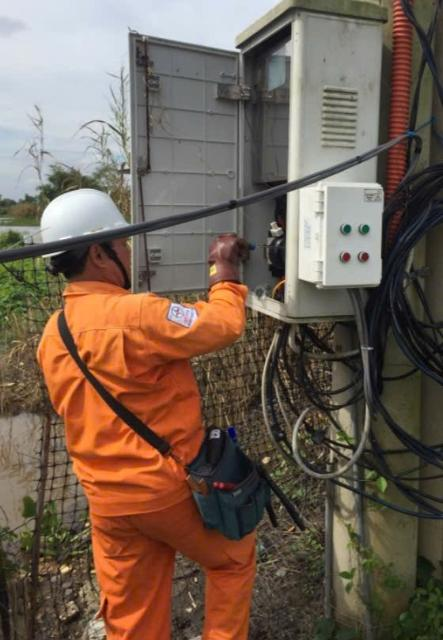gloves: (198, 221, 250, 302)
helmet: (30, 184, 144, 258)
